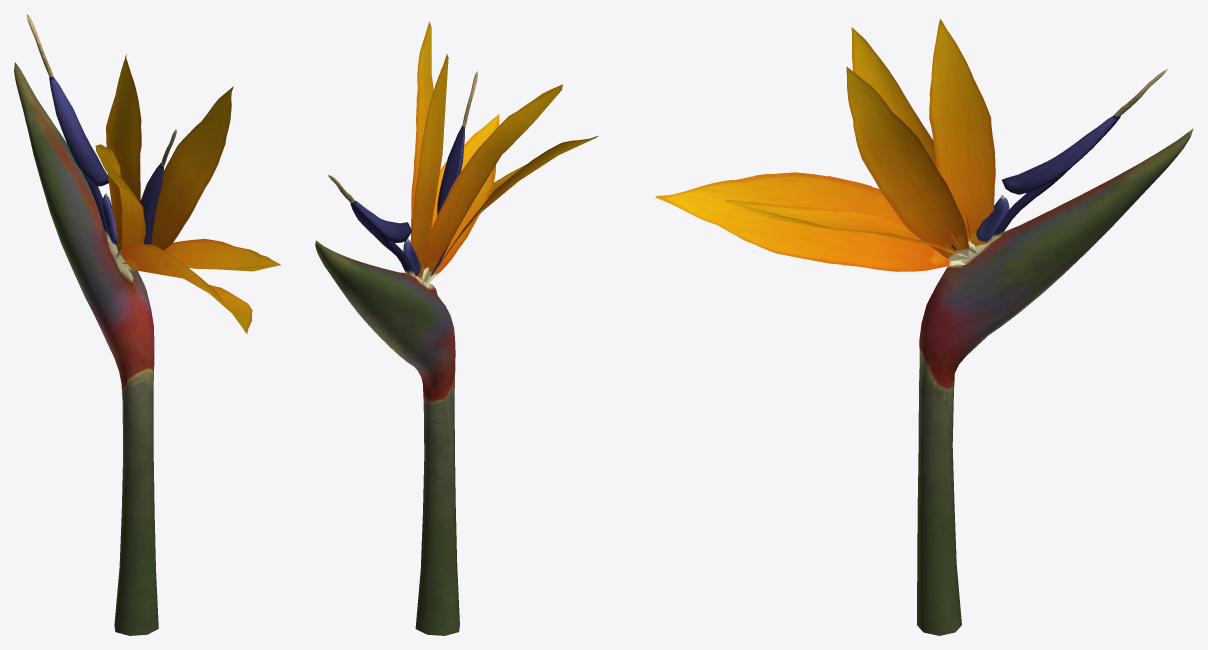
Rendered from bird of paradise.fbx.
3 renders of one model, left to right at view 1: azimuth 30°, elevation 25°; view 2: azimuth 150°, elevation 25°; view 3: azimuth 270°, elevation 25°, orthographic. The views are drawn at different scales.
Visible parts, largest first — view 1: bird_of_paradise; view 2: bird_of_paradise; view 3: bird_of_paradise.
Boxes of the visible parts, x1,y1,x2,y2 form: bird_of_paradise: (14, 14, 280, 635); bird_of_paradise: (315, 21, 598, 635); bird_of_paradise: (655, 18, 1193, 635).
Size of the model in its own units: 5.54 by 21.84 by 18.15.
Materials: 1 (1 with a texture image).
